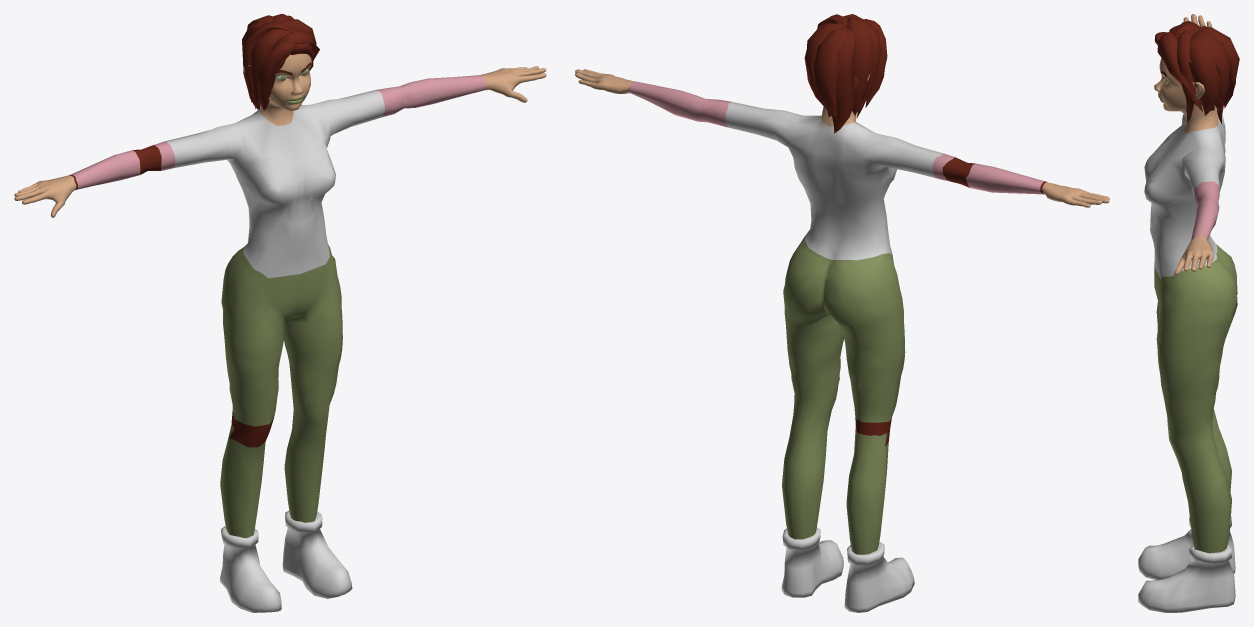
File: MULHER_FREE_3.fbx
3 renders of one model, left to right at view 1: azimuth 30°, elevation 25°; view 2: azimuth 150°, elevation 25°; view 3: azimuth 270°, elevation 25°, orthographic.
Visible parts, largest first — view 1: Mesh.002; view 2: Mesh.002; view 3: Mesh.002.
Part boxes in pixels (x1,y1,x2,y2): Mesh.002: (14, 14, 546, 612); Mesh.002: (575, 14, 1109, 612); Mesh.002: (1138, 14, 1239, 612).
Bounding box in the file's own units: 180 × 184 × 30.22.
